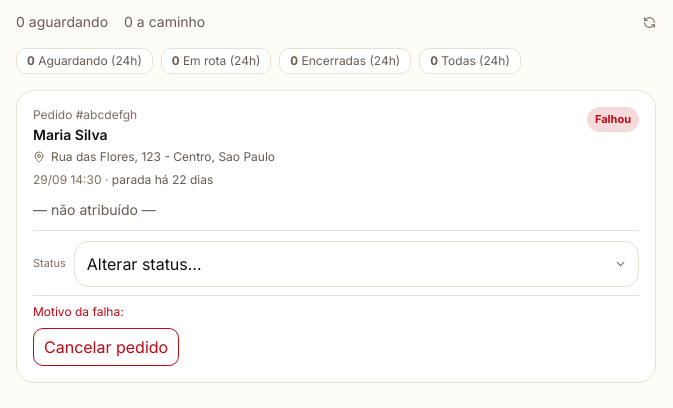
Test: DeliveriesTab — cancelar pedido com confirmação › sem motivo digitado não dá para chegar à confirmação
What coordinates should you click on to do the following:
click the button "Cancelar pedido"
I would click on:
 (106, 346)
Its box is [33,328,179,366].
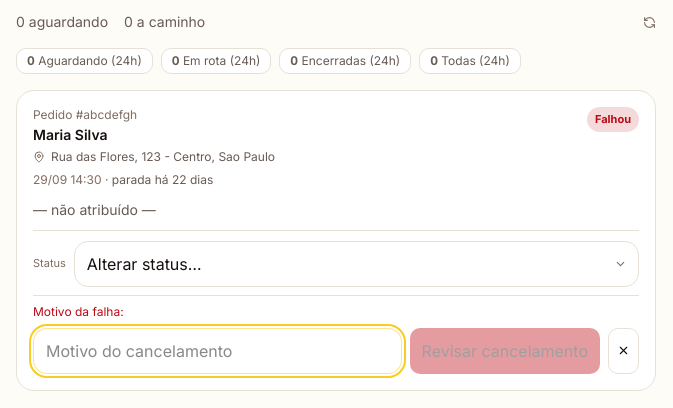
Now the button "Revisar cancelamento" is disabled, box [410,328,600,374]
